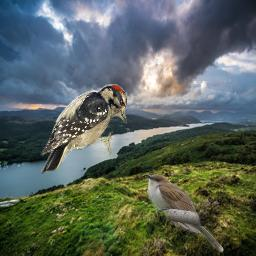Cuckoo: (143, 174, 224, 252)
Woodpecker: (33, 83, 127, 177)
